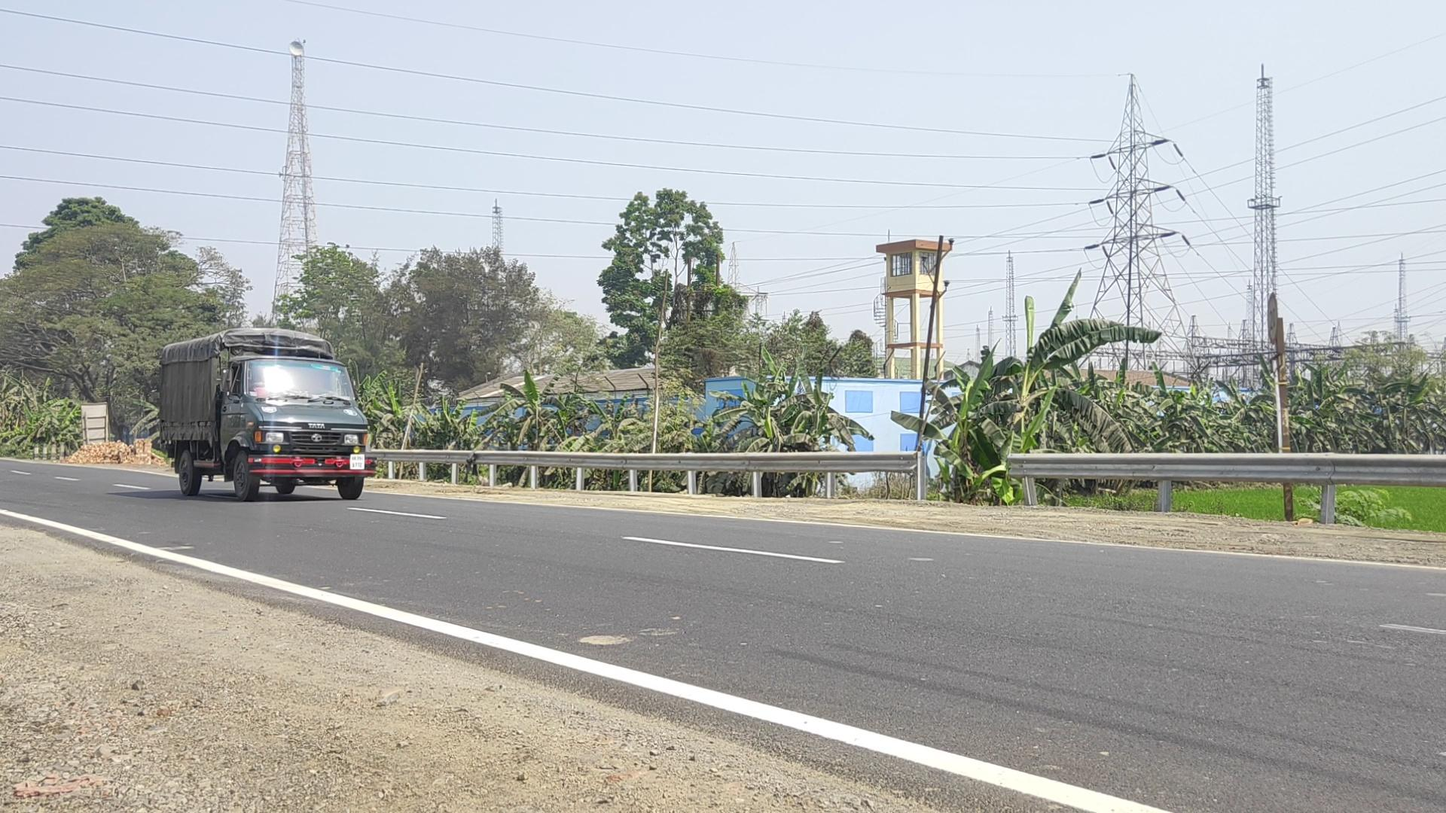truck: (159, 327, 377, 501)
